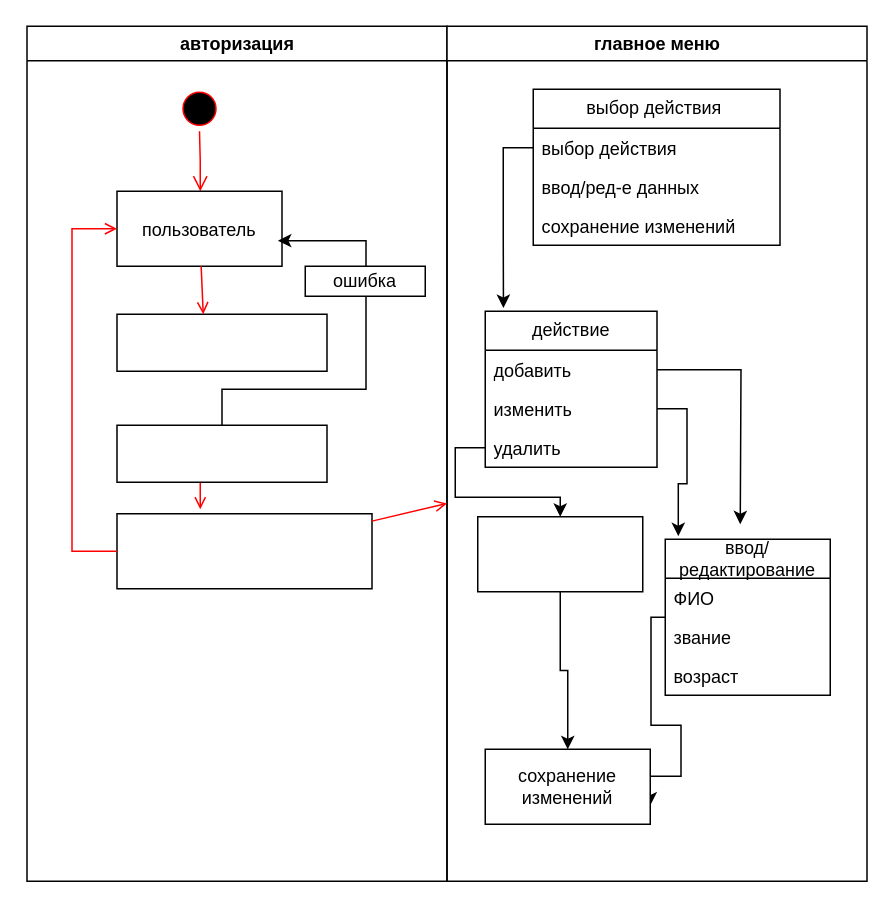
Some shapes in this 893 by 908 pixel diagram are drawn without their labels. The centre of each missing label's shape, as x and y in pixels:
"ввети логин и пароль" belongs at [221,342].
"открываем главное меню" belongs at [244,550].
"поверка системой" belongs at [221,453].
"удаление пользователя" belongs at [559,553].
